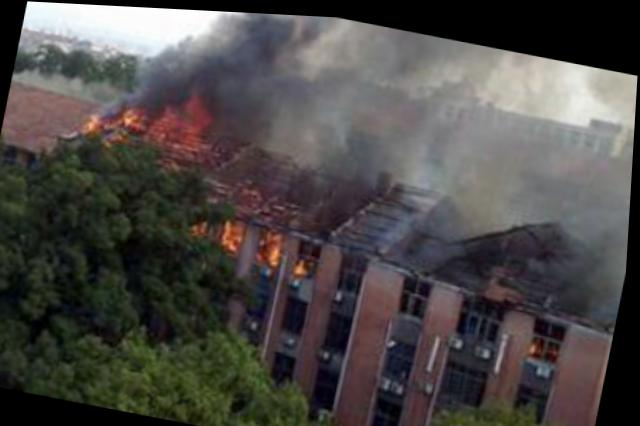fire: (255, 225, 284, 265), (219, 211, 246, 247), (116, 98, 146, 127), (296, 251, 313, 270)
